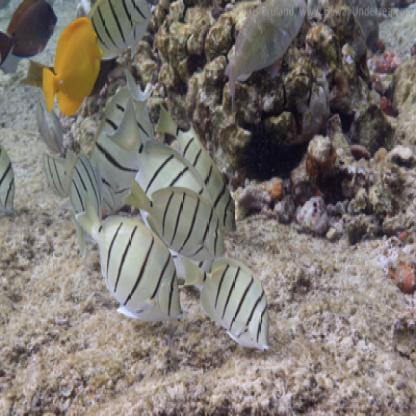surgeon: (82, 185, 182, 328), (180, 242, 273, 358), (127, 174, 232, 261), (82, 1, 158, 62)
